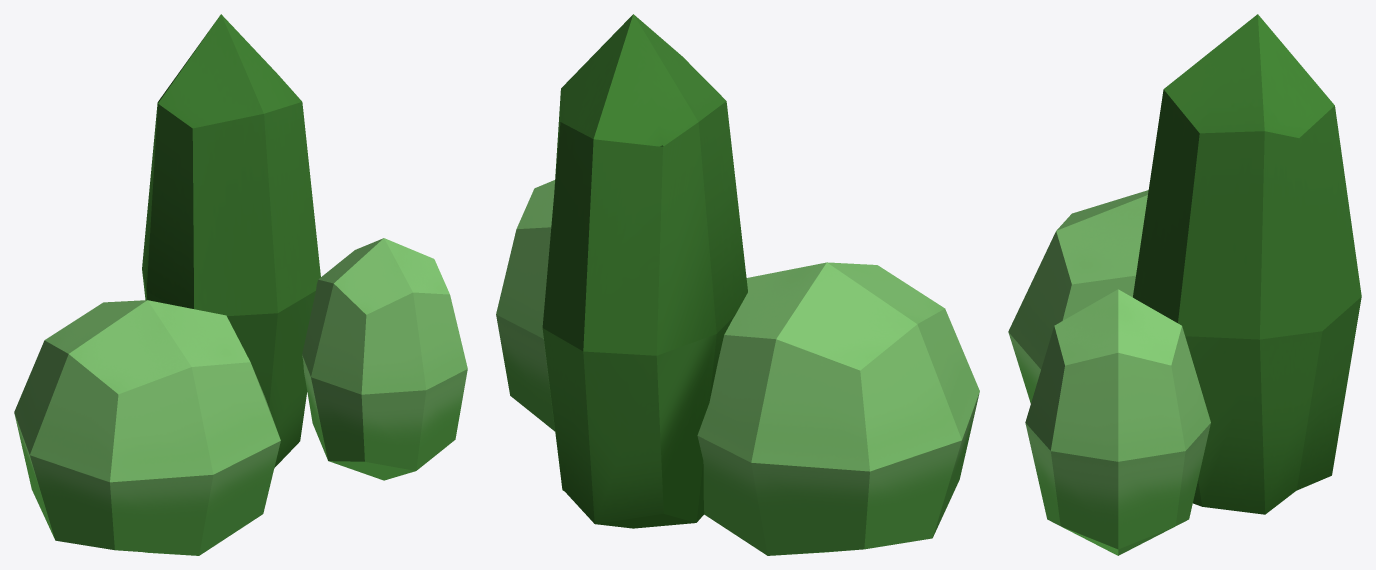
File: Bush 2.fbx
3 views of the same model, side by side, from view 1: azimuth 30°, elevation 25°; view 2: azimuth 150°, elevation 25°; view 3: azimuth 270°, elevation 25° (orthographic). The views are drawn at different scales.
Parts seen in each view (by area): view 1: Bush 2; view 2: Bush 2; view 3: Bush 2.
Part boxes in pixels (box(x1,y1,x2,y2)): Bush 2: box(14, 14, 467, 555); Bush 2: box(496, 14, 979, 555); Bush 2: box(1008, 14, 1361, 555).
Size of the model in its own units: 68.5 by 75.47 by 46.35.
